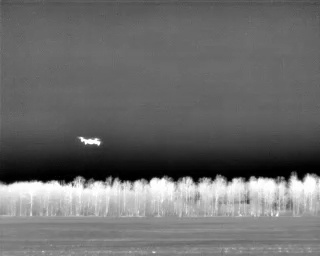DRONE: (75, 132, 106, 152)
